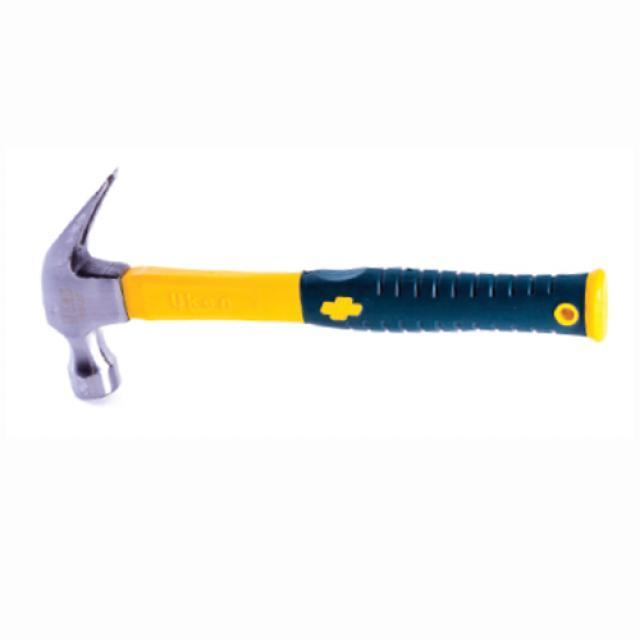hammer: (27, 158, 617, 412)
